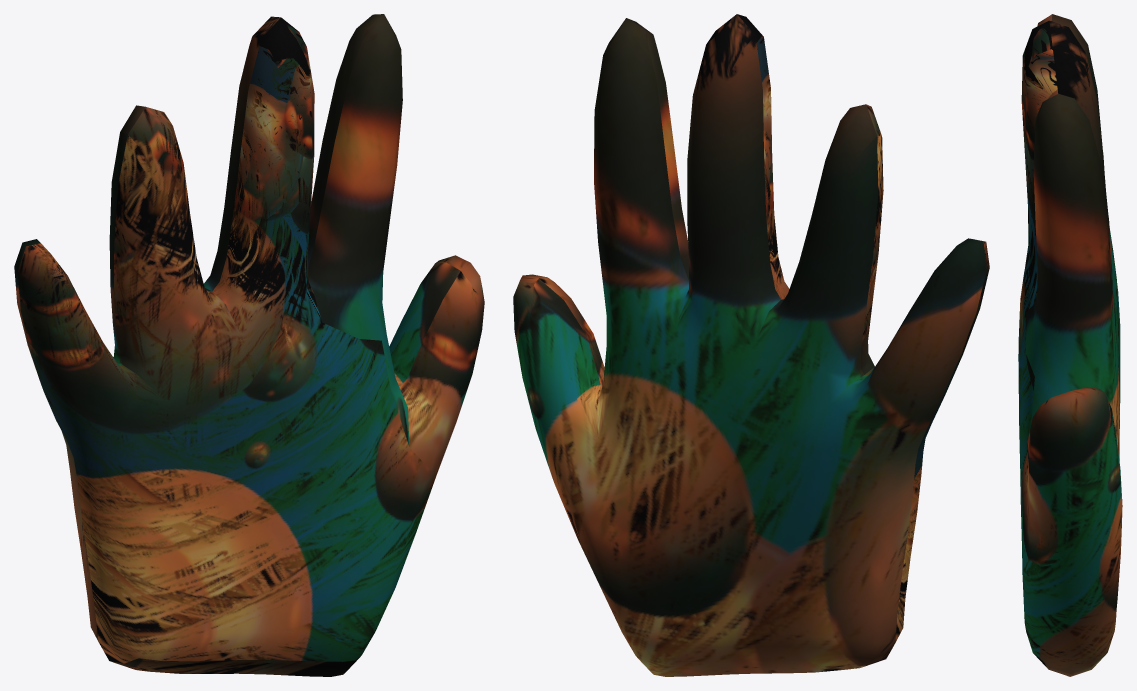
File: hand.fbx
The picture shows the model from 3 angles, left to right: view 1: azimuth 30°, elevation 25°; view 2: azimuth 150°, elevation 25°; view 3: azimuth 270°, elevation 25°; orthographic projection. The views are drawn at different scales.
Visible parts, largest first — view 1: Cube; view 2: Cube; view 3: Cube.
Boxes of the visible parts, left/top/right/bottom form: Cube: left=14, top=14, right=484, bottom=676; Cube: left=513, top=14, right=989, bottom=676; Cube: left=1018, top=14, right=1122, bottom=676.
Bounding box in the file's own units: 33.22 × 46.11 × 6.92.
Materials: 1 (1 with a texture image).
